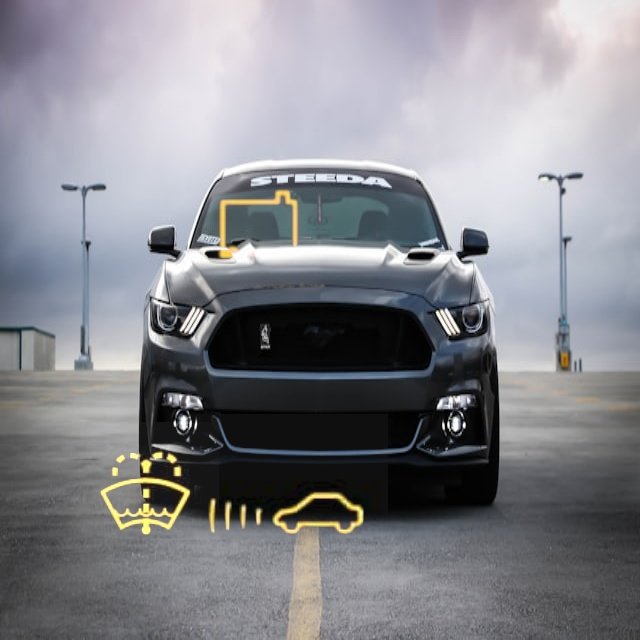symbol: (182, 414, 388, 620), (73, 422, 219, 568), (187, 153, 331, 297)
